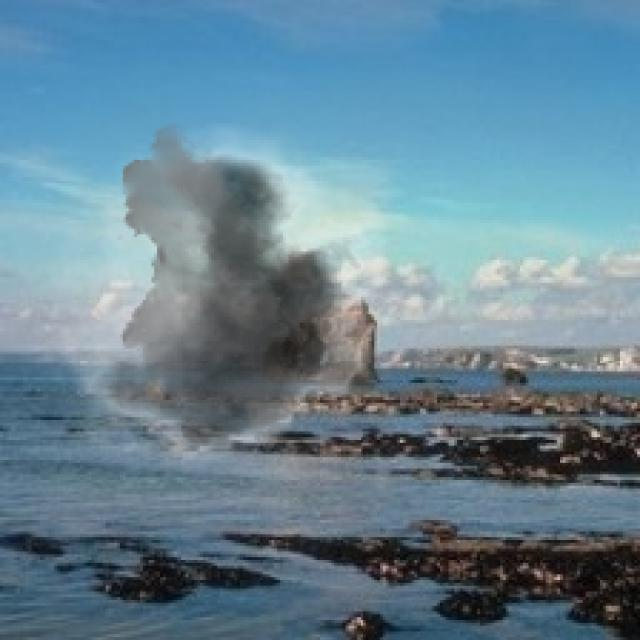Smoke: (17, 123, 409, 483)
